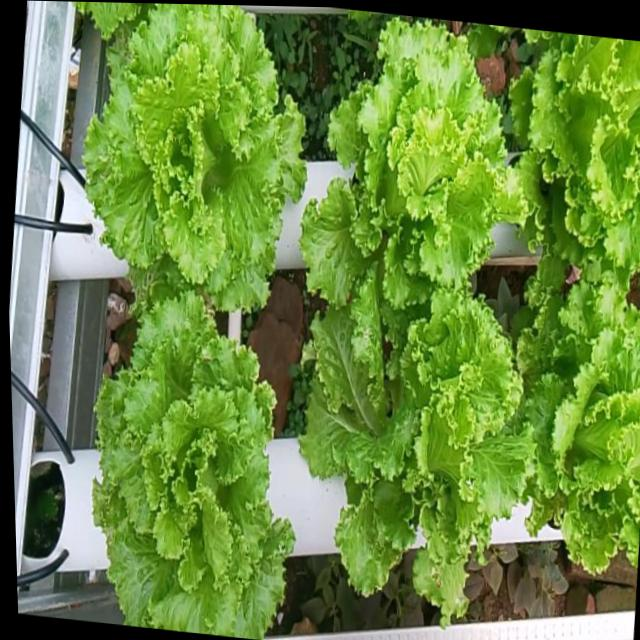Mature: (298, 299, 535, 631), (84, 2, 309, 315), (93, 291, 296, 637), (303, 19, 530, 313), (521, 286, 640, 581), (514, 35, 640, 308)
